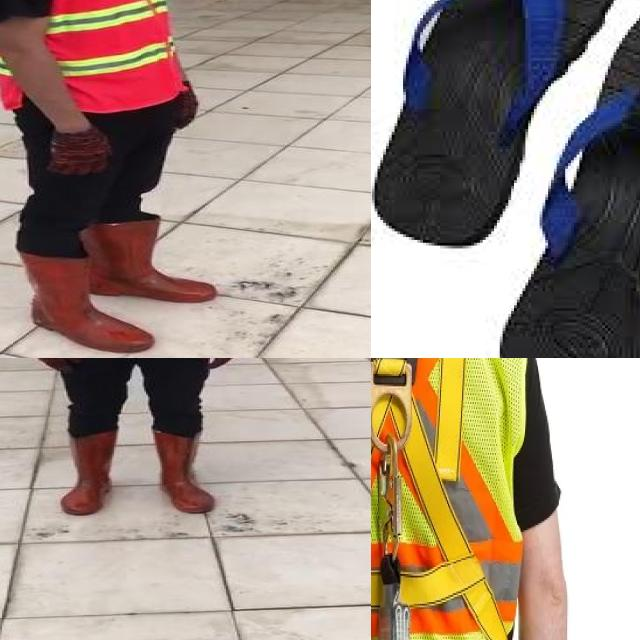Harness: (371, 358, 485, 606)
Sandals: (371, 0, 640, 358)
boots: (15, 248, 157, 352), (82, 220, 214, 302), (153, 432, 214, 515), (59, 433, 121, 514)
hand_glove: (49, 131, 112, 175), (32, 358, 78, 371), (197, 358, 240, 368)
person: (0, 0, 237, 358), (4, 358, 257, 527)
vest: (0, 0, 187, 110)
